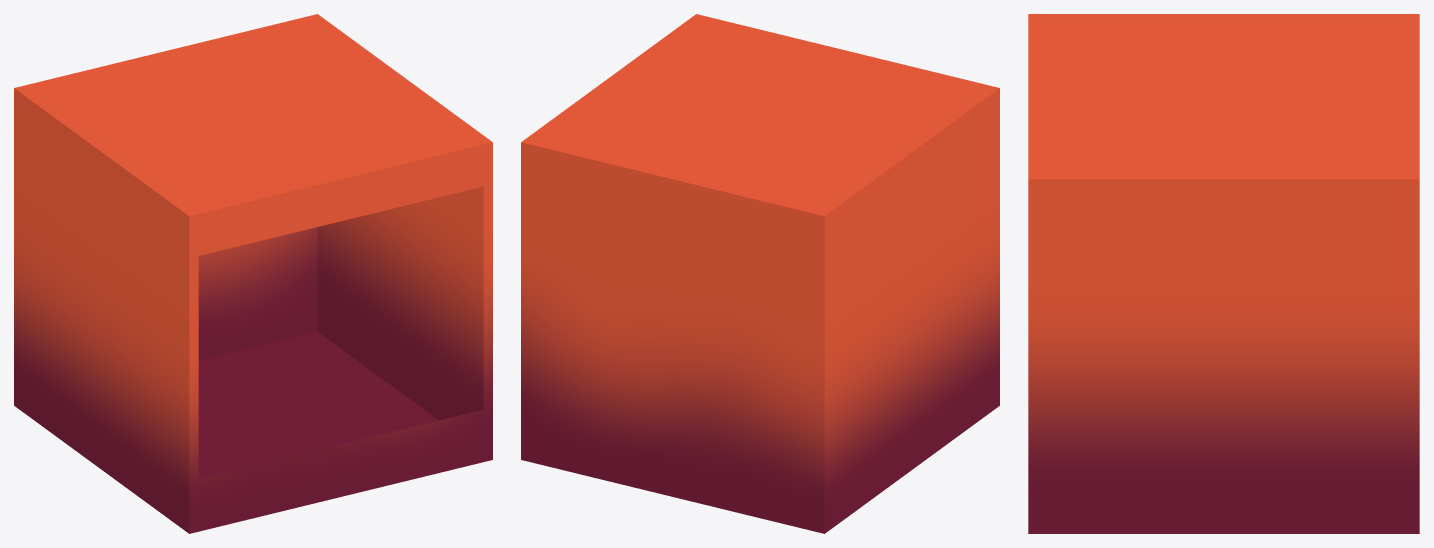
3 views of the same model, side by side, from view 1: azimuth 30°, elevation 25°; view 2: azimuth 150°, elevation 25°; view 3: azimuth 270°, elevation 25° (orthographic). The views are drawn at different scales.
Parts seen in each view (by area): view 1: Cube_mat; view 2: Cube_mat; view 3: Cube_mat.
Boxes of the visible parts, <box> form: Cube_mat: <box>14,14,492,533</box>; Cube_mat: <box>521,14,999,533</box>; Cube_mat: <box>1028,14,1419,533</box>.
Bounding box in the file's own units: 1.07 × 1.07 × 1.07.
1 material, 1 textured.
